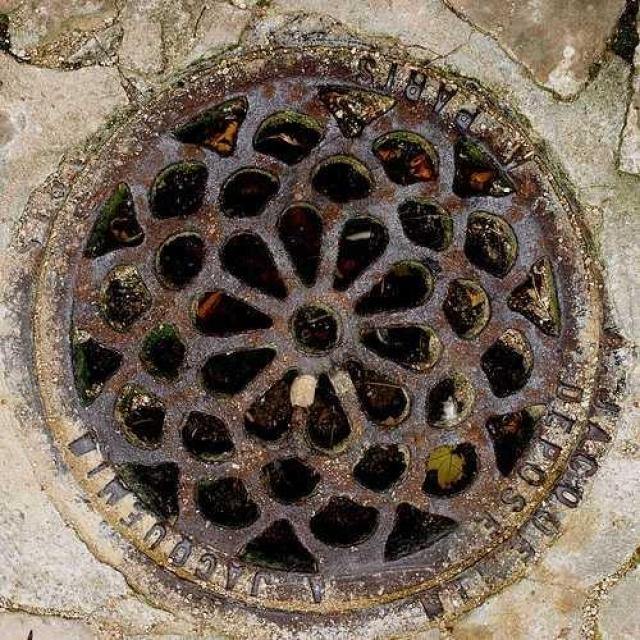manhole: (29, 40, 608, 621)
